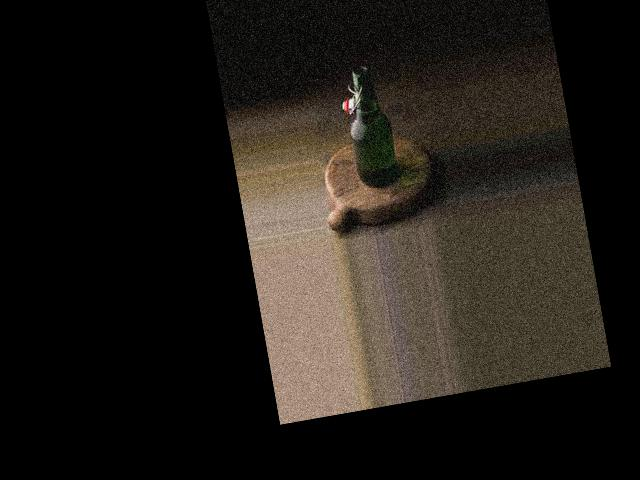beer: (339, 62, 399, 187)
